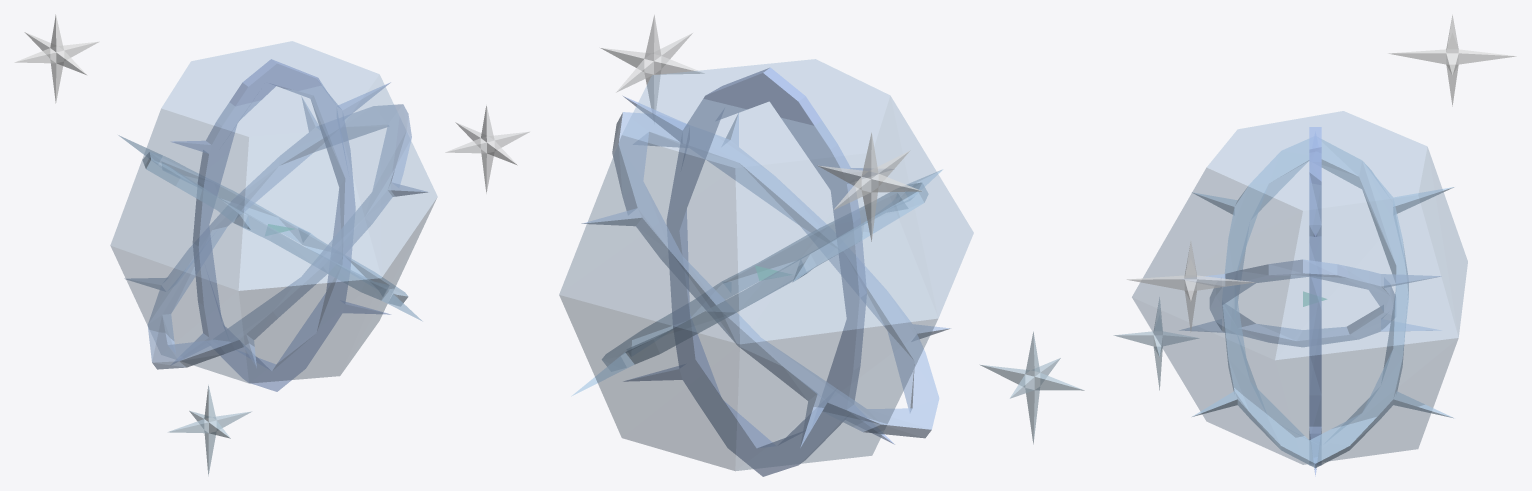
File: tears-of-guthix.gltf
3 views of the same model, side by side, from view 1: azimuth 30°, elevation 25°; view 2: azimuth 150°, elevation 25°; view 3: azimuth 270°, elevation 25° (orthographic). The views are drawn at different scales.
Bounding box in the file's own units: 149 × 133 × 130.
1 material, 1 textured.
